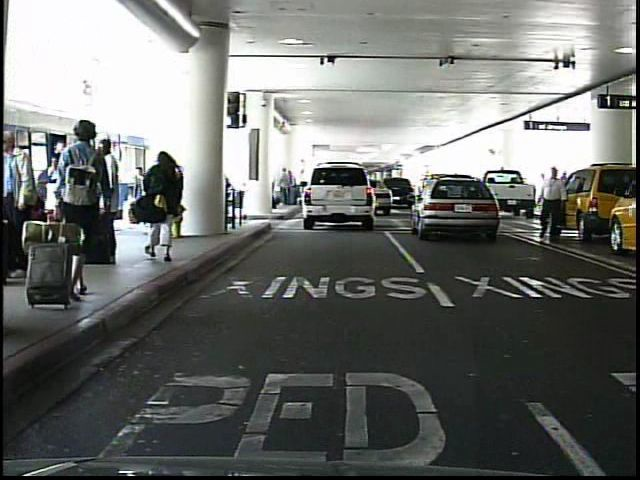person: (59, 111, 115, 311), (140, 143, 187, 270), (6, 126, 39, 273), (89, 137, 125, 266), (539, 166, 568, 247), (161, 157, 185, 237), (539, 170, 549, 208)
